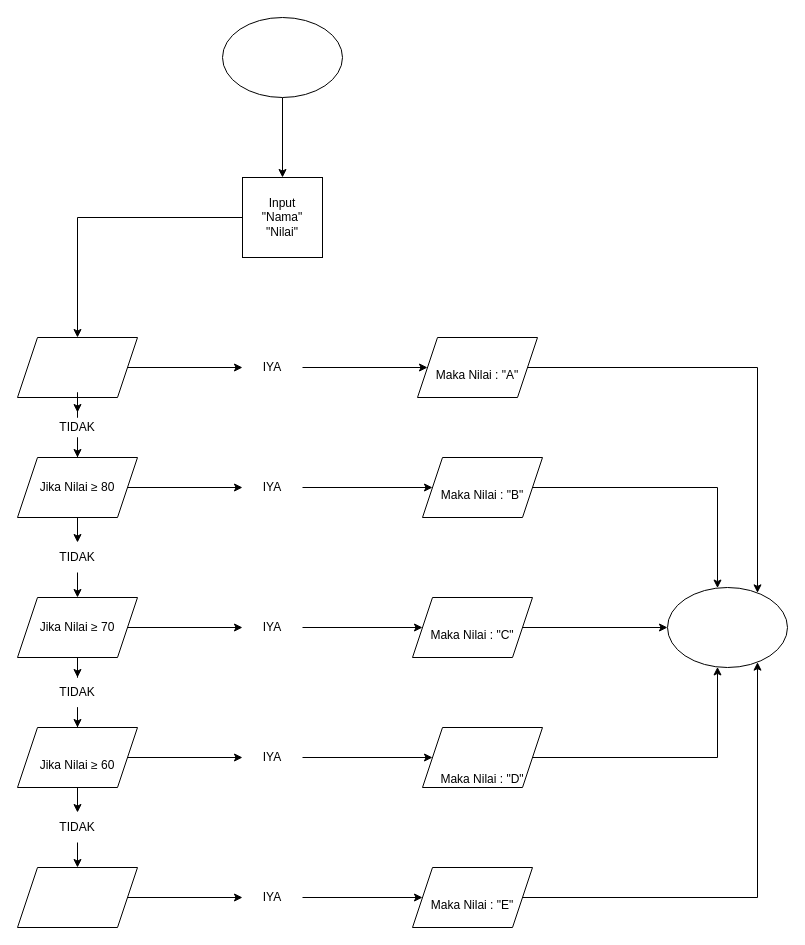
Image size: 805x945. Some labels were removed from this diagram. The shapes that lost their labels are listed below. From the top down, each one's centre as x and y in pixels, then its label:
the point at 282,57: START
the point at 77,367: Jika Nilai ≥ 90
the point at 727,627: SELESAI
the point at 77,897: Jika Nilai ≤ 60
